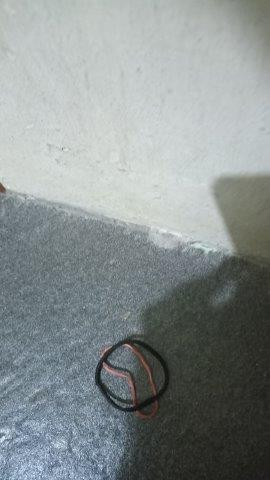karet: (96, 339, 170, 419)
